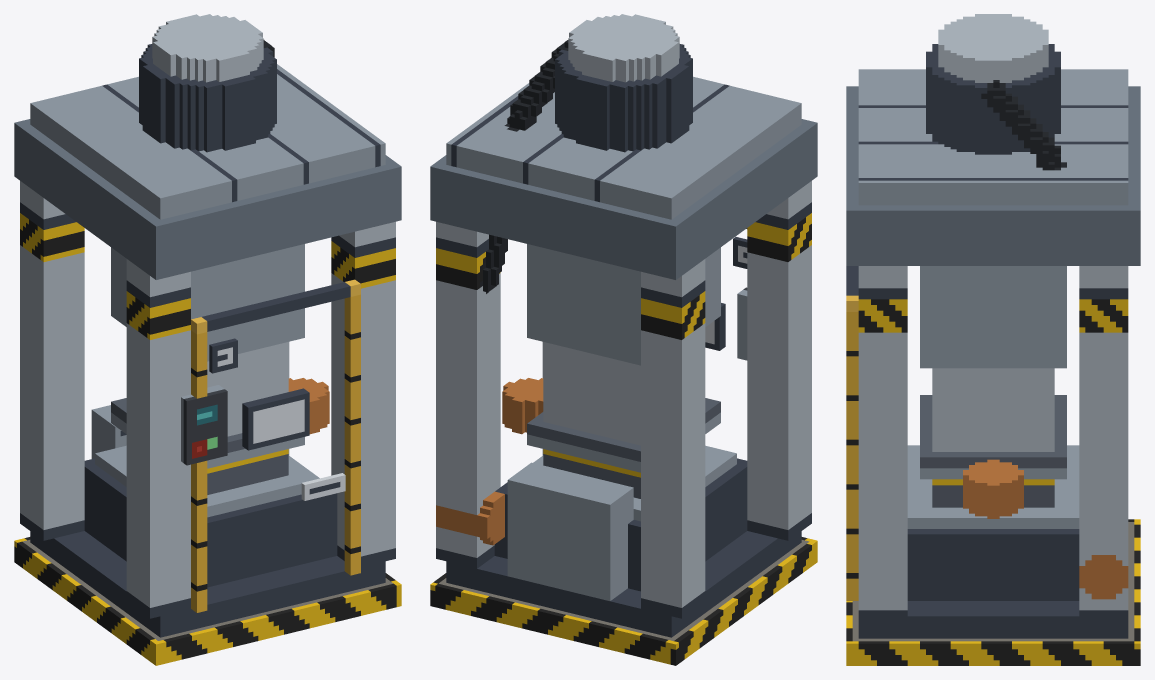
The model's file is hydraulic_press.obj.
3 renders of one model, left to right at view 1: azimuth 30°, elevation 25°; view 2: azimuth 150°, elevation 25°; view 3: azimuth 270°, elevation 25°, orthographic. The views are drawn at different scales.
Visible parts, largest first — view 1: hydraulic_press; view 2: hydraulic_press; view 3: hydraulic_press.
Boxes of the visible parts, x1,y1,x2,y2 form: hydraulic_press: [14, 14, 401, 665]; hydraulic_press: [430, 14, 817, 665]; hydraulic_press: [846, 14, 1140, 665].
Size of the model in its own units: 1.5 by 3.19 by 1.5.
